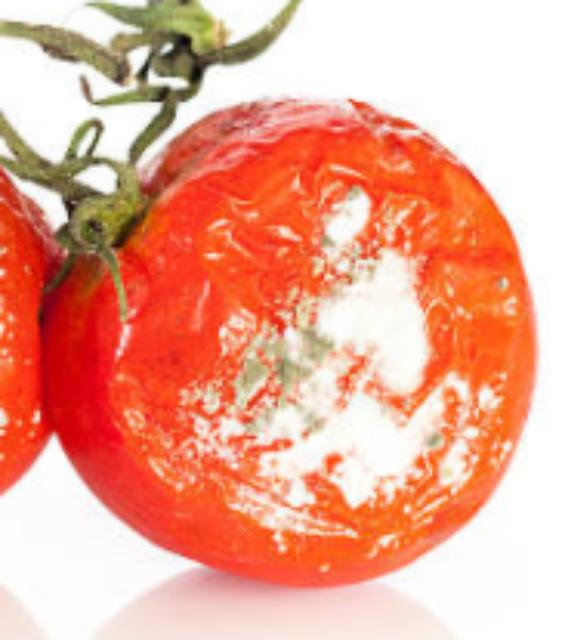defect: (37, 0, 541, 587)
